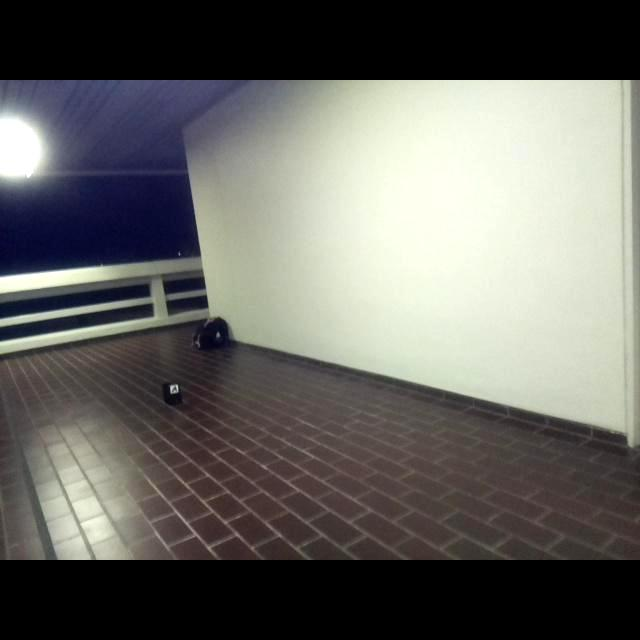A: (171, 385, 178, 393)
